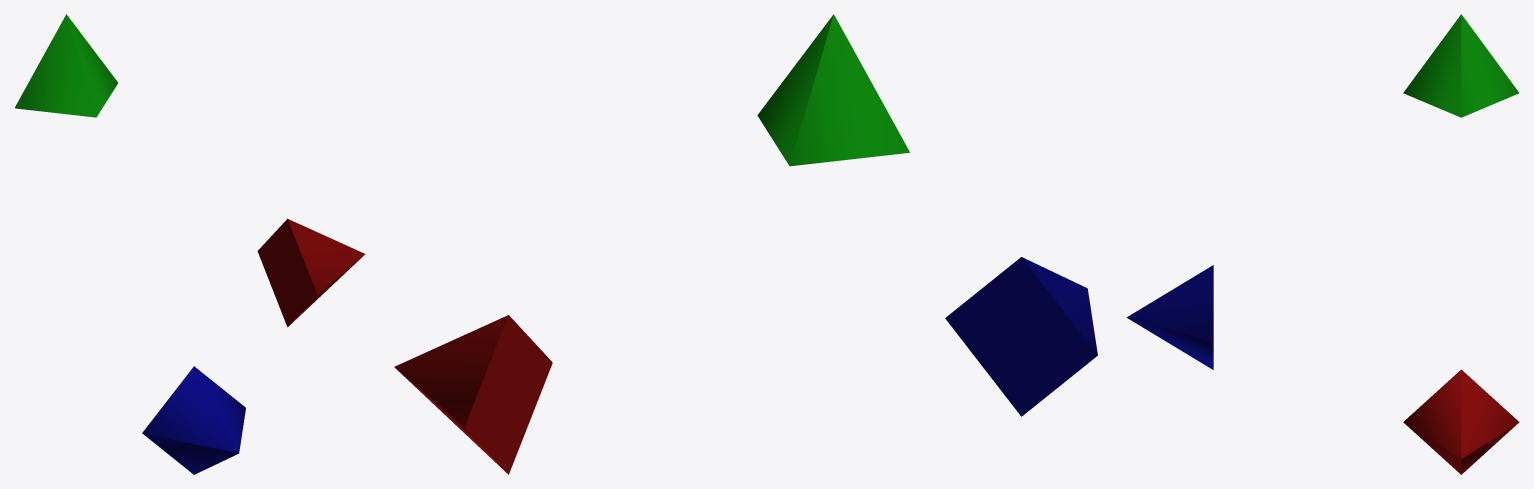
Rendered from dlr-coord.dae.
The picture shows the model from 3 angles, left to right: view 1: azimuth 30°, elevation 25°; view 2: azimuth 150°, elevation 25°; view 3: azimuth 270°, elevation 25°; orthographic projection. The views are drawn at different scales.
Parts seen in each view (by area): view 1: Cone_4, Cone, Cone_2; view 2: Cone_4, Cone, Cone_2; view 3: Cone, Cone_2, Cone_4.
Boxes of the visible parts, x1=… form: Cone_4: x1=142, y1=366, x2=245, y2=474; Cone: x1=257, y1=218, x2=365, y2=327; Cone_2: x1=15, y1=14, x2=117, y2=117; Cone_4: x1=945, y1=257, x2=1097, y2=416; Cone: x1=394, y1=315, x2=552, y2=474; Cone_2: x1=757, y1=14, x2=909, y2=166; Cone: x1=1403, y1=369, x2=1519, y2=474; Cone_2: x1=1403, y1=14, x2=1519, y2=117; Cone_4: x1=1126, y1=265, x2=1213, y2=369.
Size of the model in its own units: 0.1013 by 0.1013 by 0.1013.
